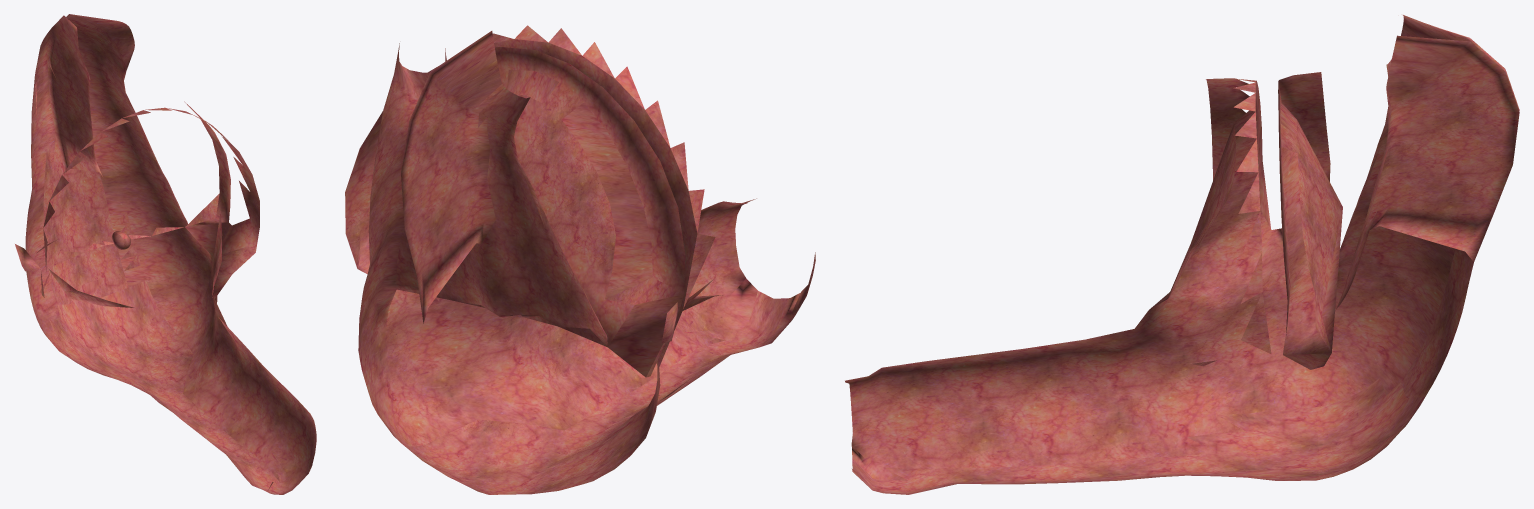
Rendered from bronco_new_30_3_1.glb.
3 renders of one model, left to right at view 1: azimuth 30°, elevation 25°; view 2: azimuth 150°, elevation 25°; view 3: azimuth 270°, elevation 25°, orthographic. The views are drawn at different scales.
Parts seen in each view (by area): view 1: Boca_Garganta; view 2: Boca_Garganta; view 3: Boca_Garganta.
Part boxes in pixels (bbox=[...]): Boca_Garganta: bbox=[15, 14, 316, 494]; Boca_Garganta: bbox=[345, 25, 815, 494]; Boca_Garganta: bbox=[845, 15, 1519, 494].
Bounding box in the file's own units: 7.67 × 12.02 × 15.81.
1 material, 1 textured.
